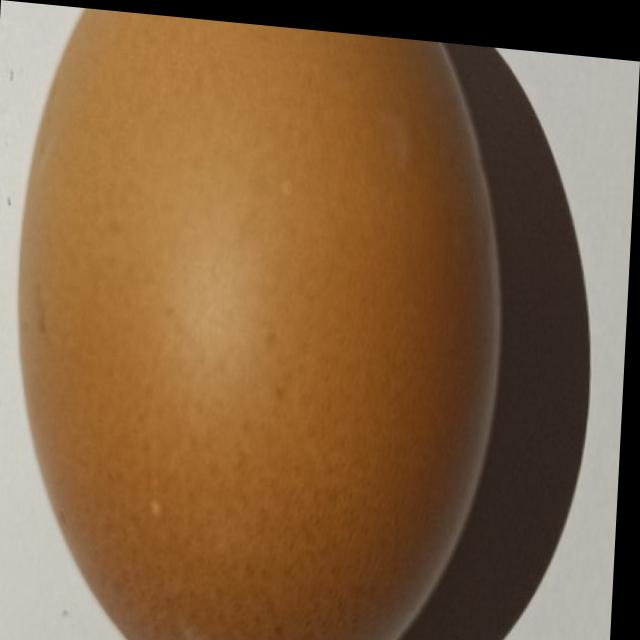unfresh: (0, 2, 529, 640)
